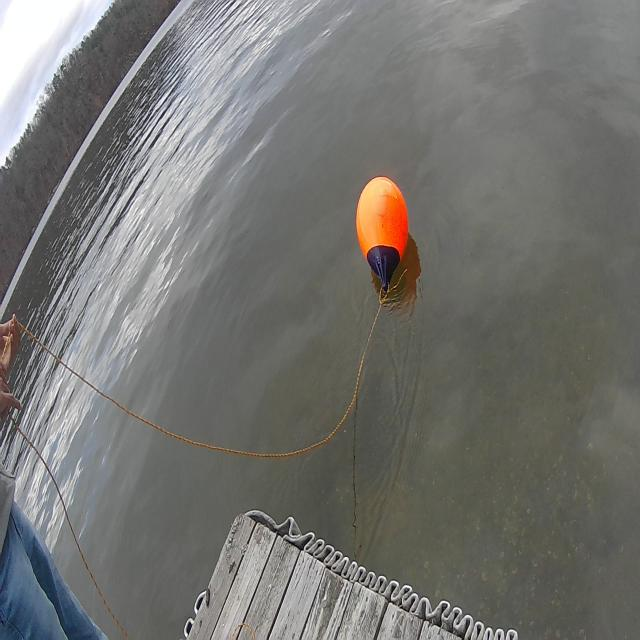Buoy: (355, 174, 409, 262)
